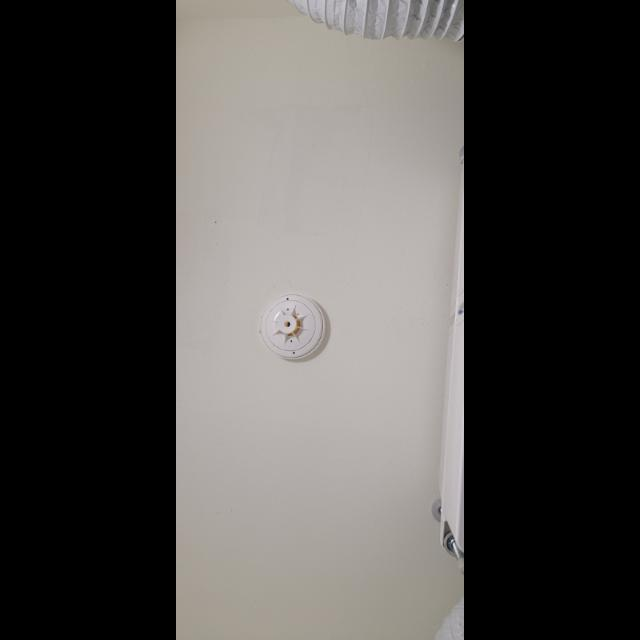Smoke-Detector: (261, 294, 331, 362)
